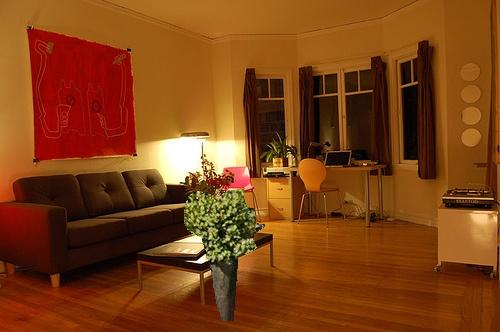tampered: (184, 190, 265, 321)
